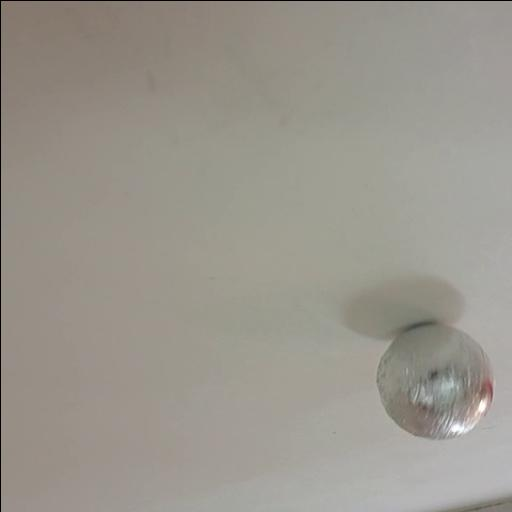alive: (375, 322, 495, 440)
